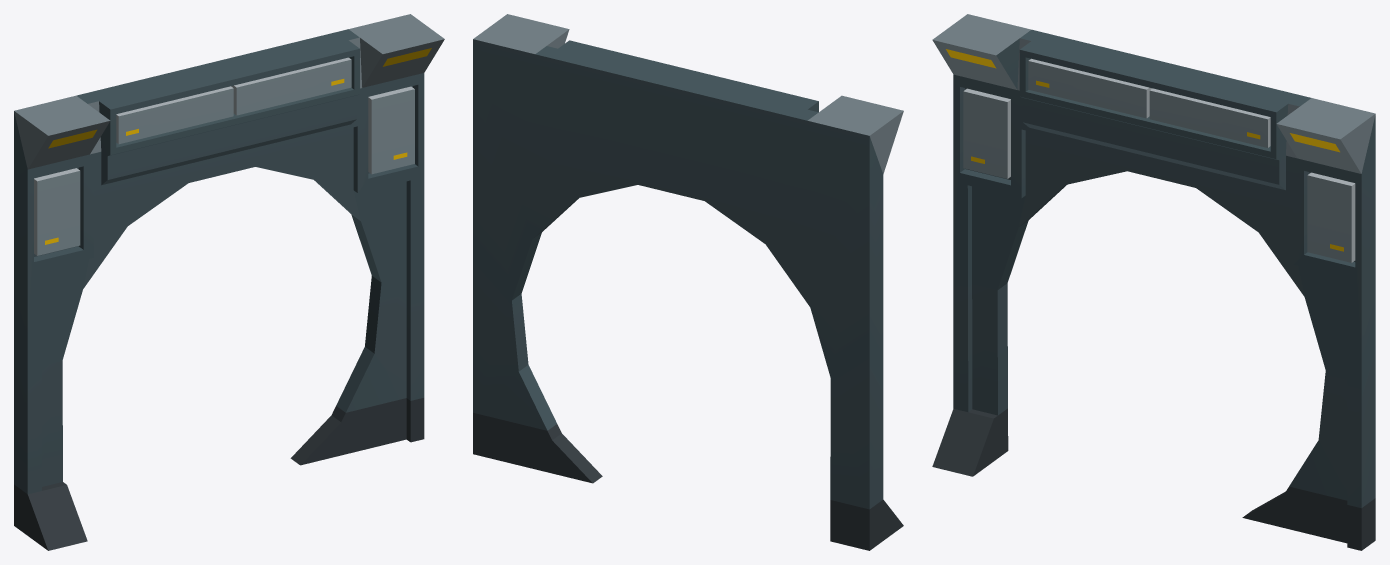
File: Wall_type_C_066.fbx
3 renders of one model, left to right at view 1: azimuth 30°, elevation 25°; view 2: azimuth 150°, elevation 25°; view 3: azimuth 330°, elevation 25°, orthographic. The views are drawn at different scales.
Parts seen in each view (by area): view 1: Wall_type_C_066; view 2: Wall_type_C_066; view 3: Wall_type_C_066.
Part boxes in pixels (<box>): Wall_type_C_066: <box>14,14,444,550</box>; Wall_type_C_066: <box>473,14,903,550</box>; Wall_type_C_066: <box>932,14,1375,550</box>.
Bounding box in the file's own units: 400 × 60 × 400.
